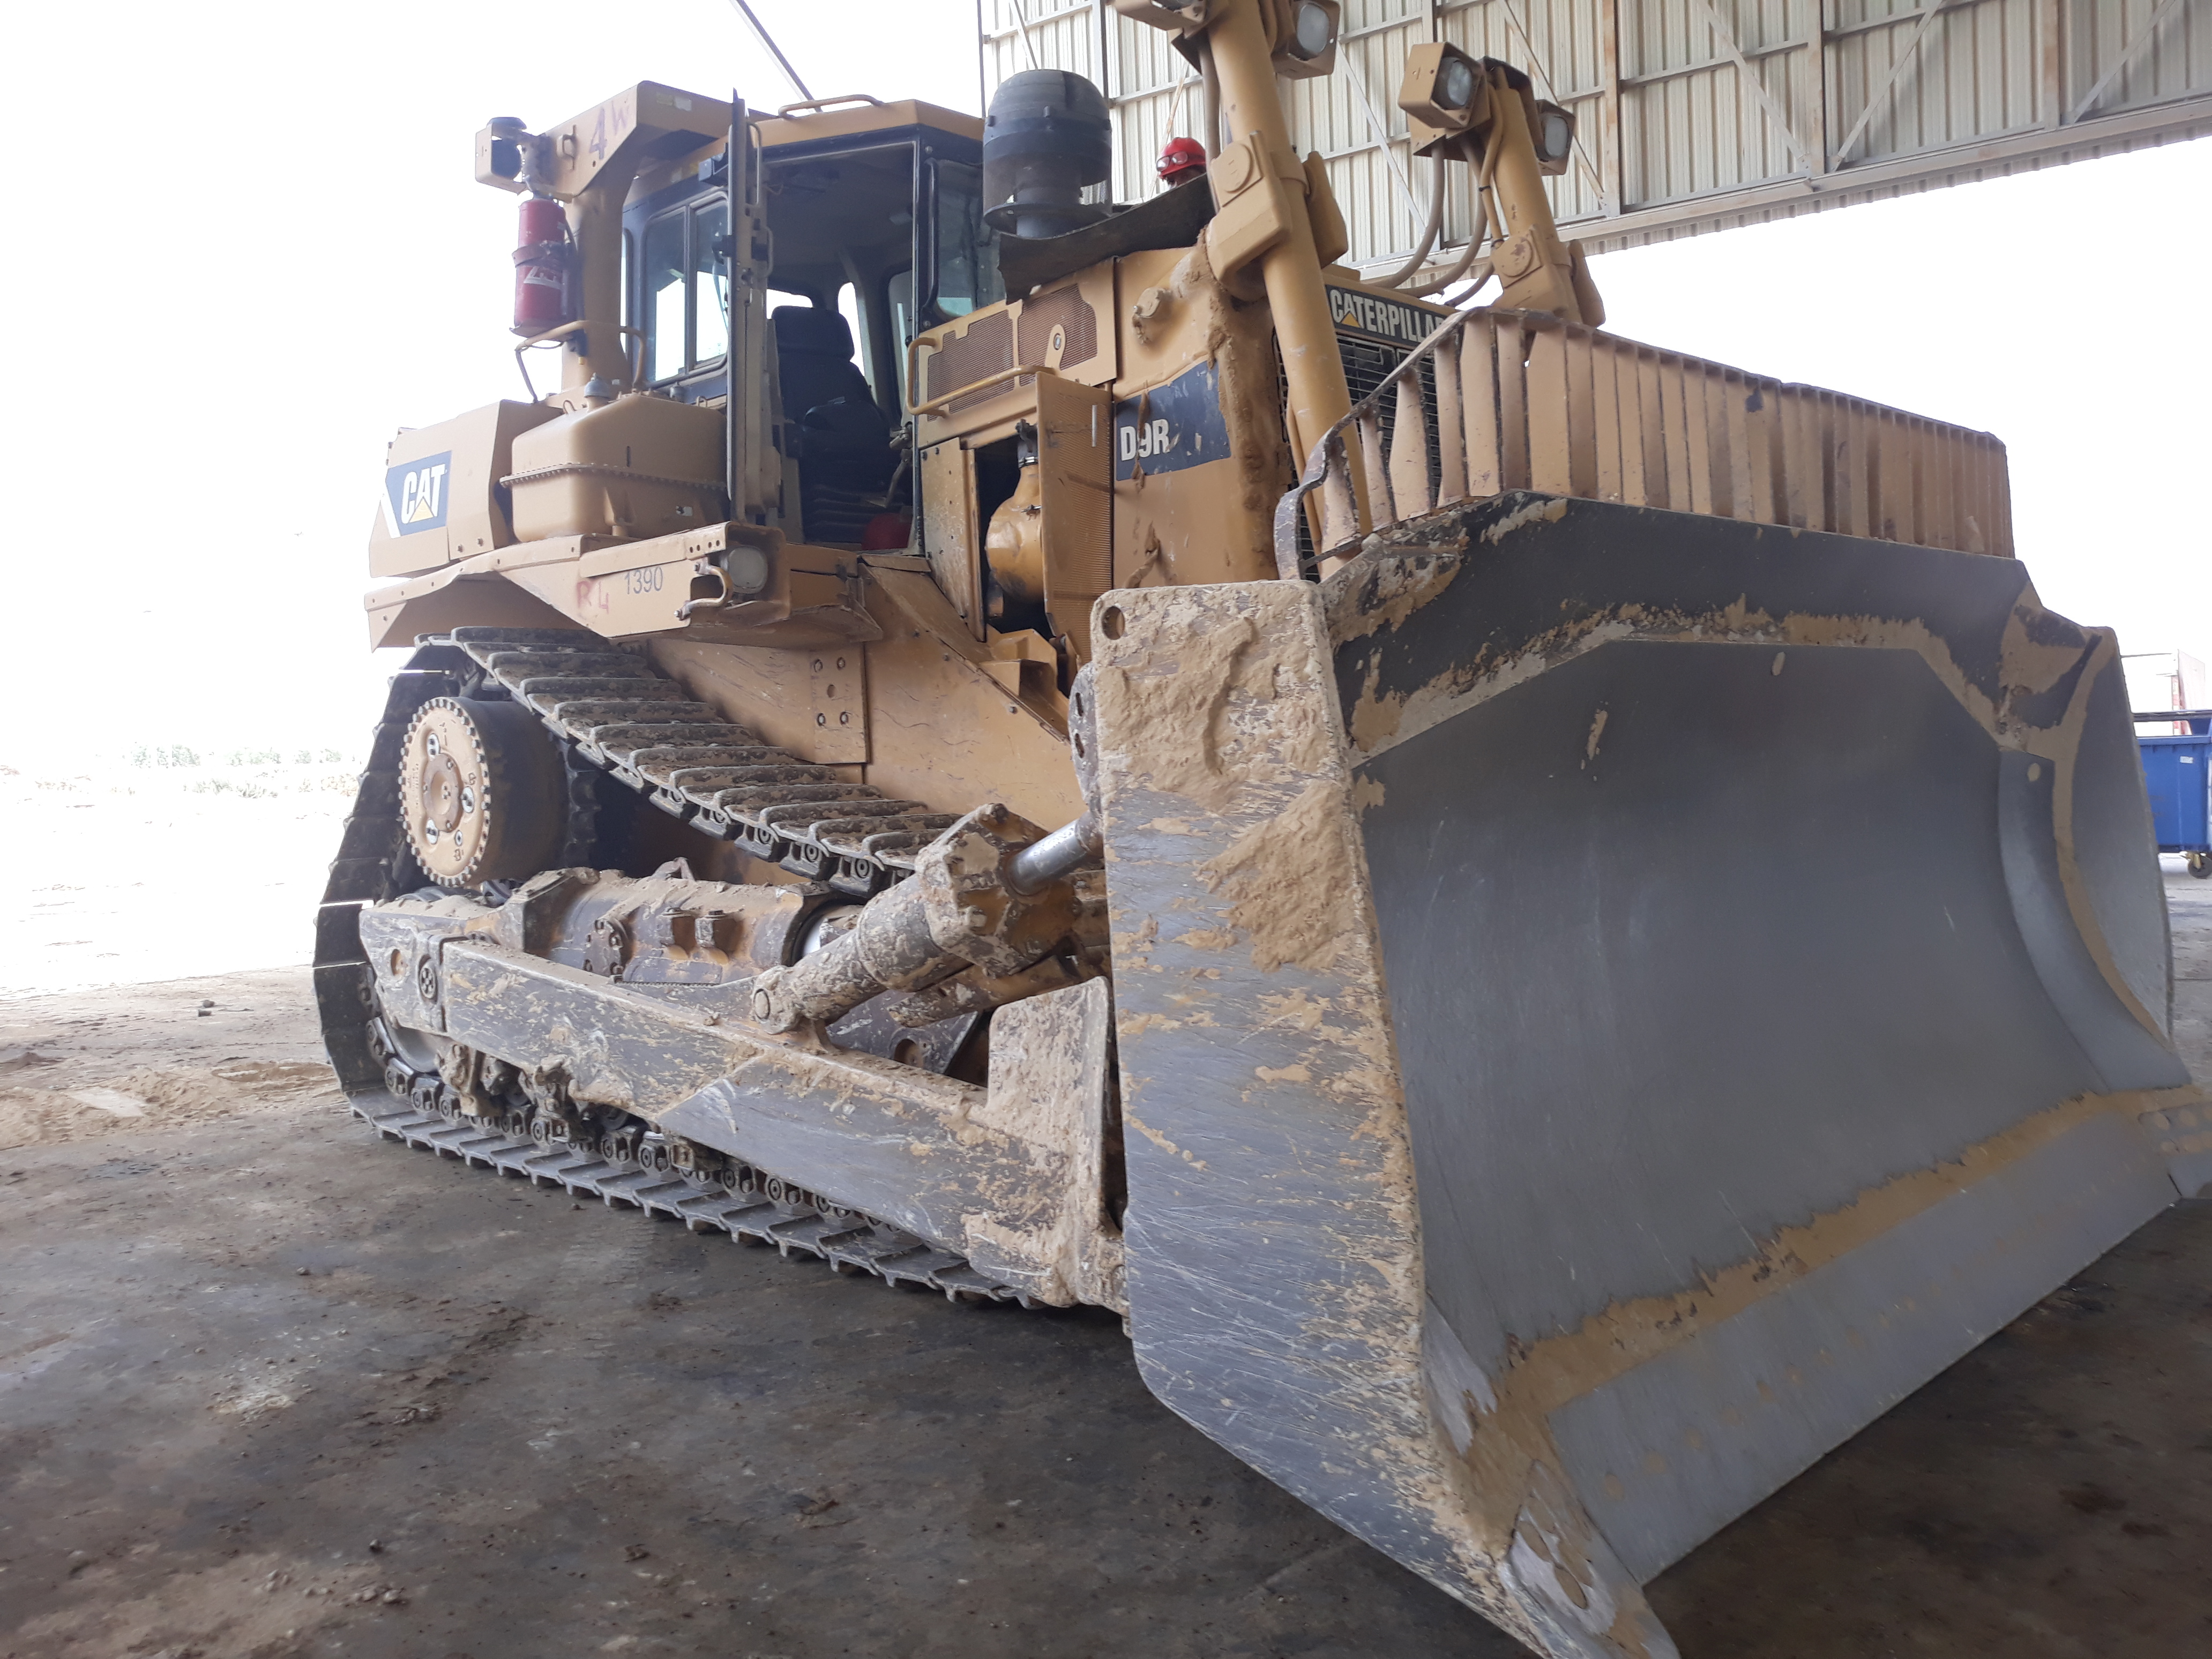bulldozer: (312, 7, 2212, 1643)
